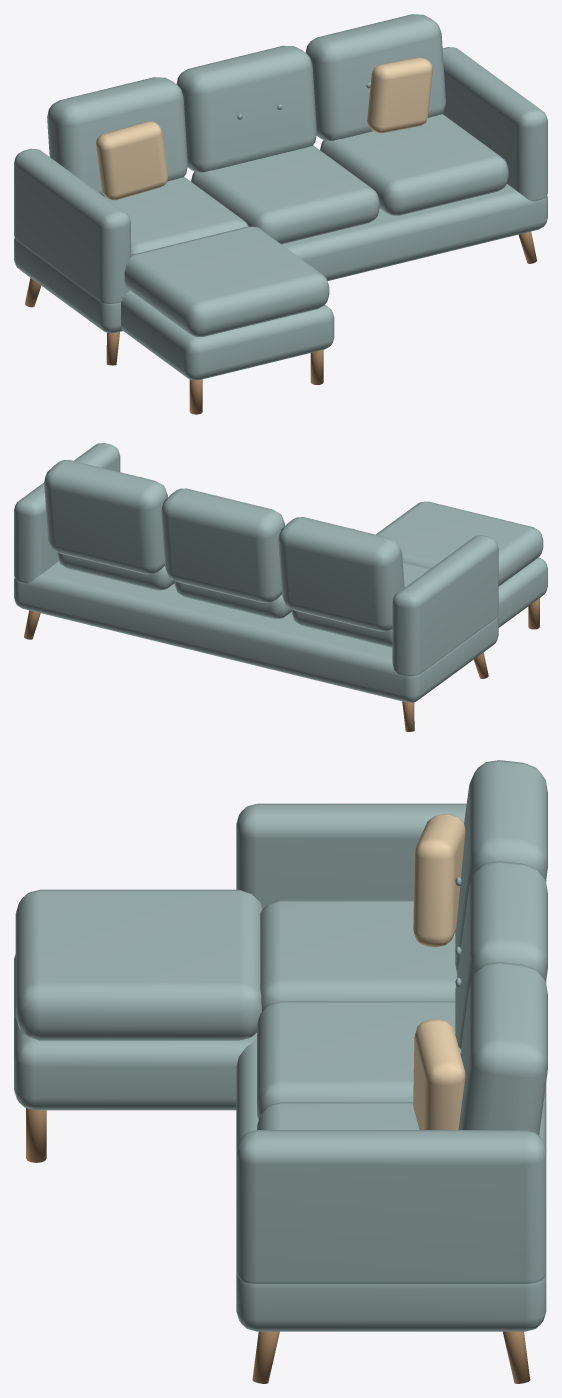
File: atelier-l-shaped-sofa.glb
The picture shows the model from 3 angles, top to bottom: view 1: azimuth 30°, elevation 25°; view 2: azimuth 150°, elevation 25°; view 3: azimuth 270°, elevation 25°; orthographic projection. The views are drawn at different scales.
Visible parts, largest first — view 1: fabric.004, accent.004, legs.004; view 2: fabric.004, legs.004; view 3: fabric.004, accent.004, legs.004.
Boxes of the visible parts, x1,y1,x2,y2 form: fabric.004: [14, 14, 547, 380]; accent.004: [96, 57, 432, 200]; legs.004: [25, 231, 536, 414]; fabric.004: [14, 443, 547, 702]; legs.004: [24, 598, 539, 731]; fabric.004: [14, 760, 547, 1331]; accent.004: [413, 814, 465, 1129]; legs.004: [26, 1108, 530, 1383].
Bounding box in the file's own units: 2.4 × 1.02 × 1.55.
